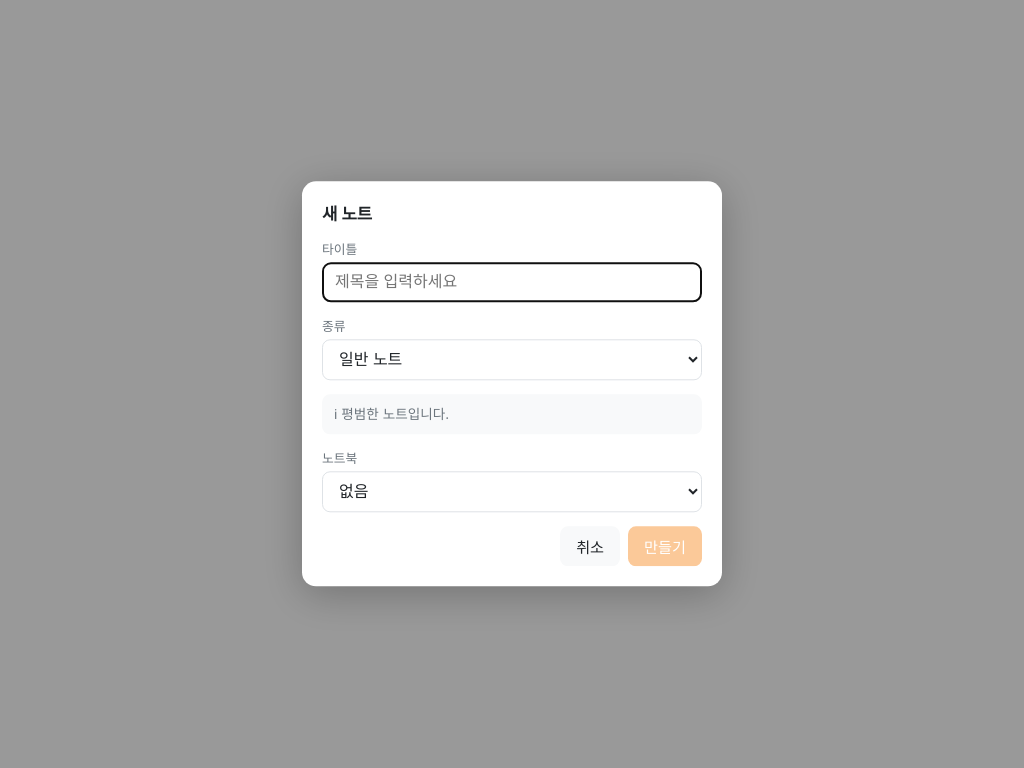
Test: NoteTitleDialog › 종류를 바꾸면 도움말이 그 종류의 help 로 바뀐다
Select "터미널 (SSH)" in the dropdown labelled "종류" at (512, 360), box 322,339 -> 702,380
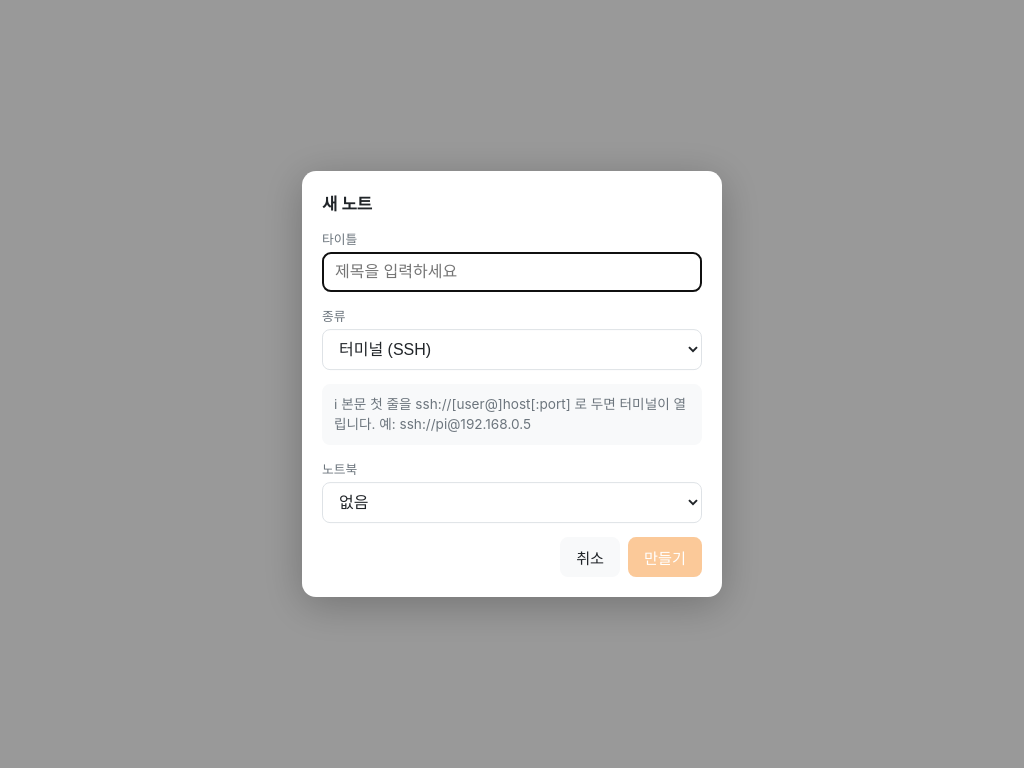
expect the text "ssh://" is shown: met, box 334,396 -> 686,432
